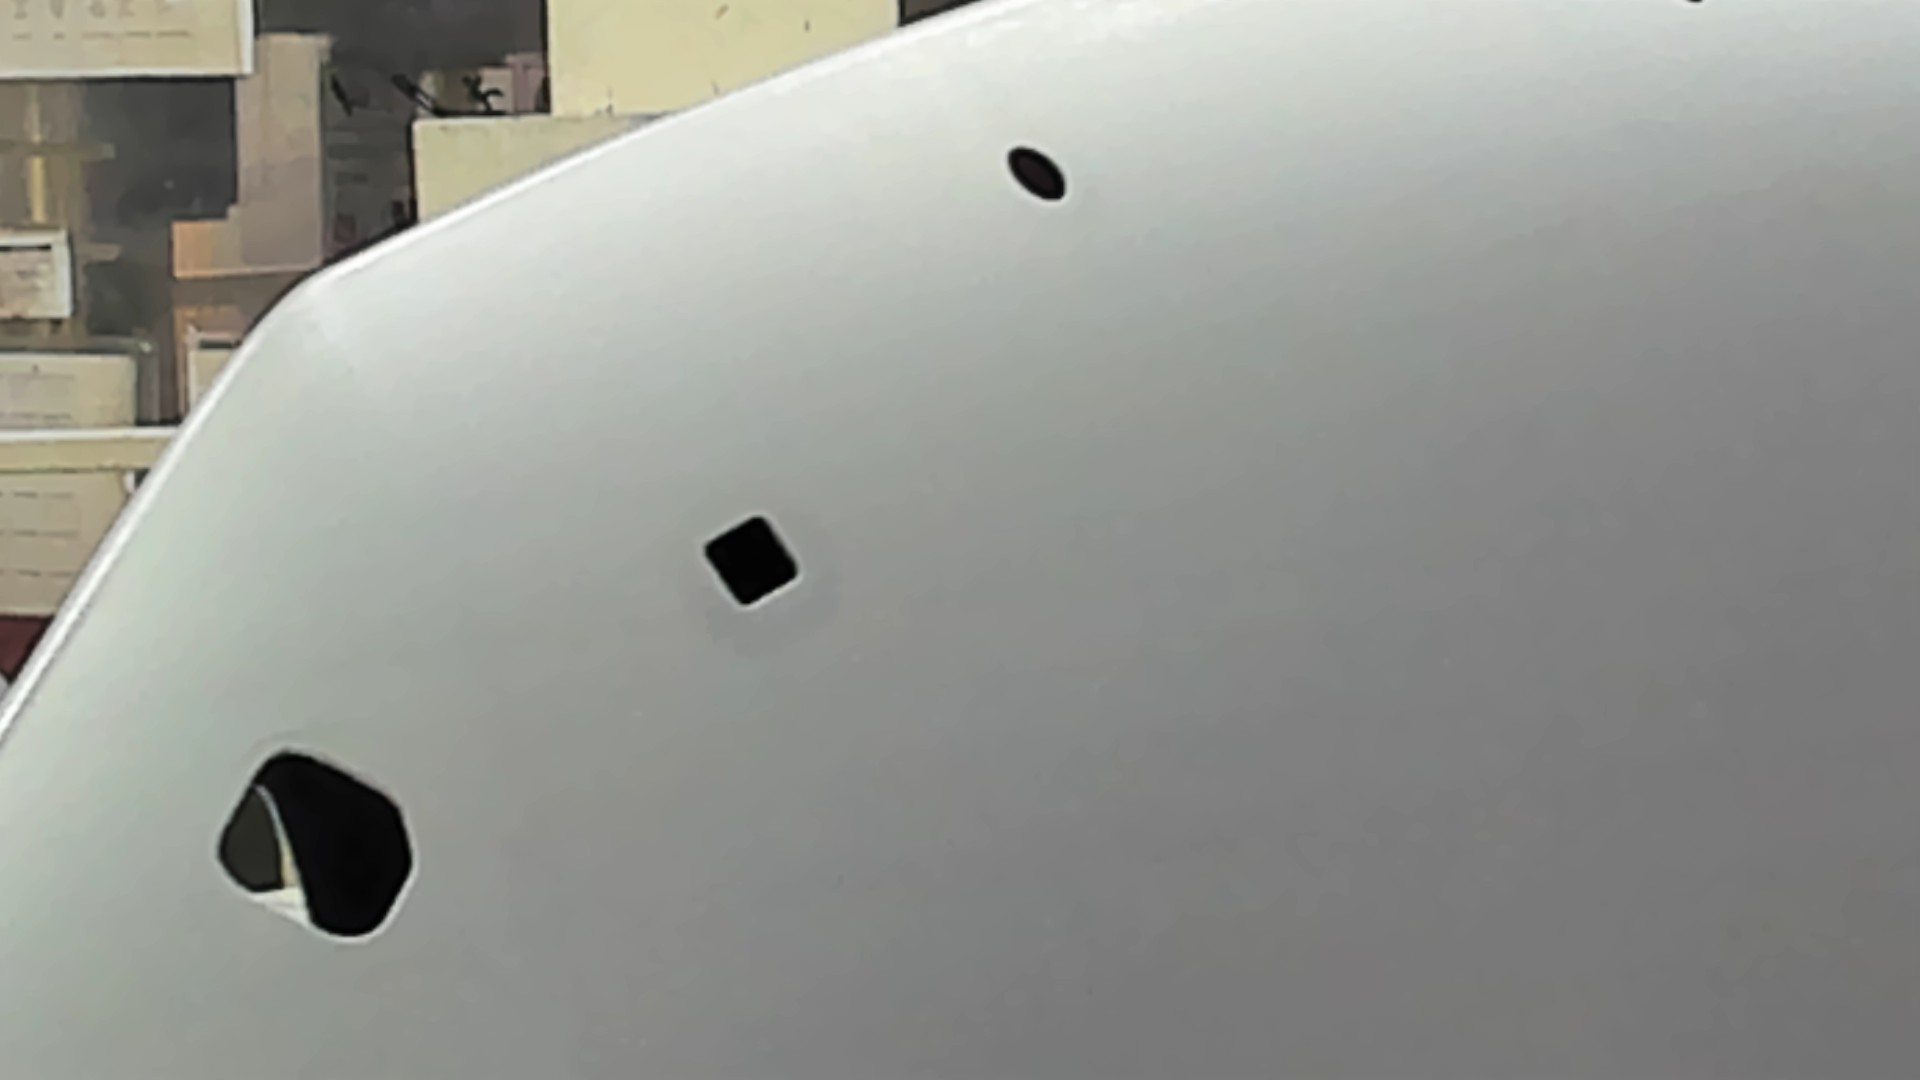capo: (825, 210, 1920, 1080)
chico: (1001, 137, 1075, 208)
grande: (211, 744, 422, 944)
mediano: (698, 509, 804, 615)
